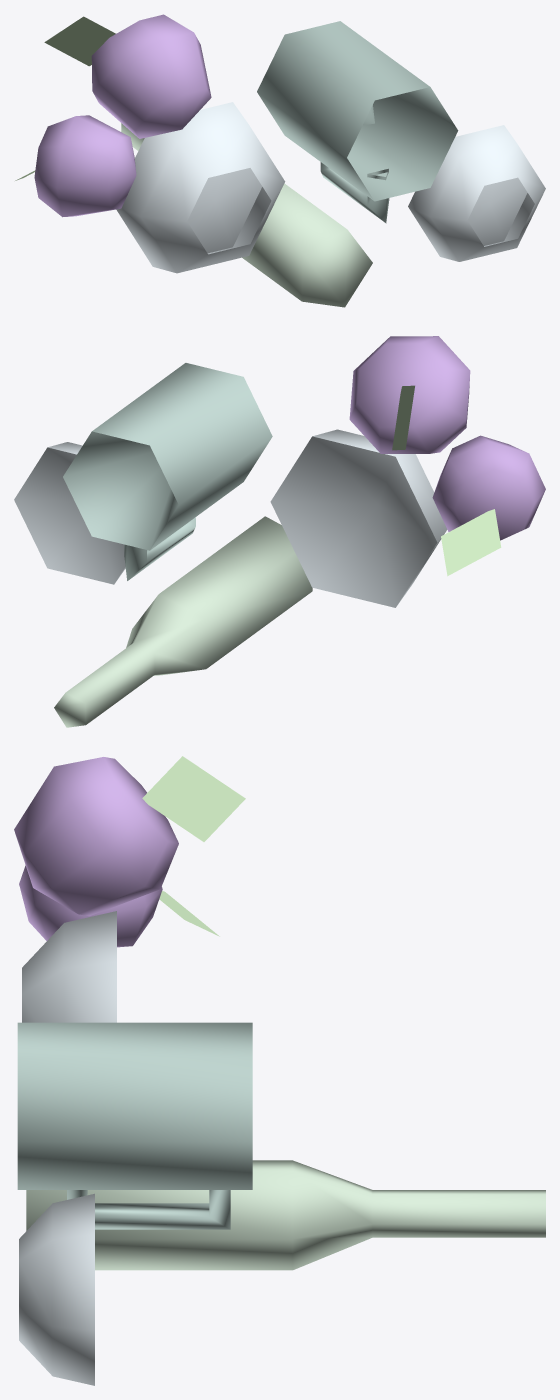
The picture shows the model from 3 angles, top to bottom: view 1: azimuth 30°, elevation 25°; view 2: azimuth 150°, elevation 25°; view 3: azimuth 270°, elevation 25°; orthographic projection. The views are drawn at different scales.
Visible parts, largest first — view 1: Object49; view 2: Object49; view 3: Object49.
Part boxes in pixels (bbox=[...]): Object49: bbox=[15, 14, 545, 307]; Object49: bbox=[14, 336, 545, 727]; Object49: bbox=[14, 756, 545, 1385].
Bounding box in the file's own units: 8824 × 5188 × 6227.
